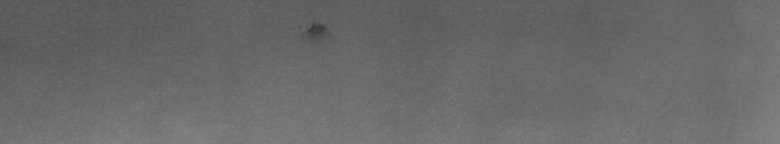fi: (300, 16, 327, 40)
